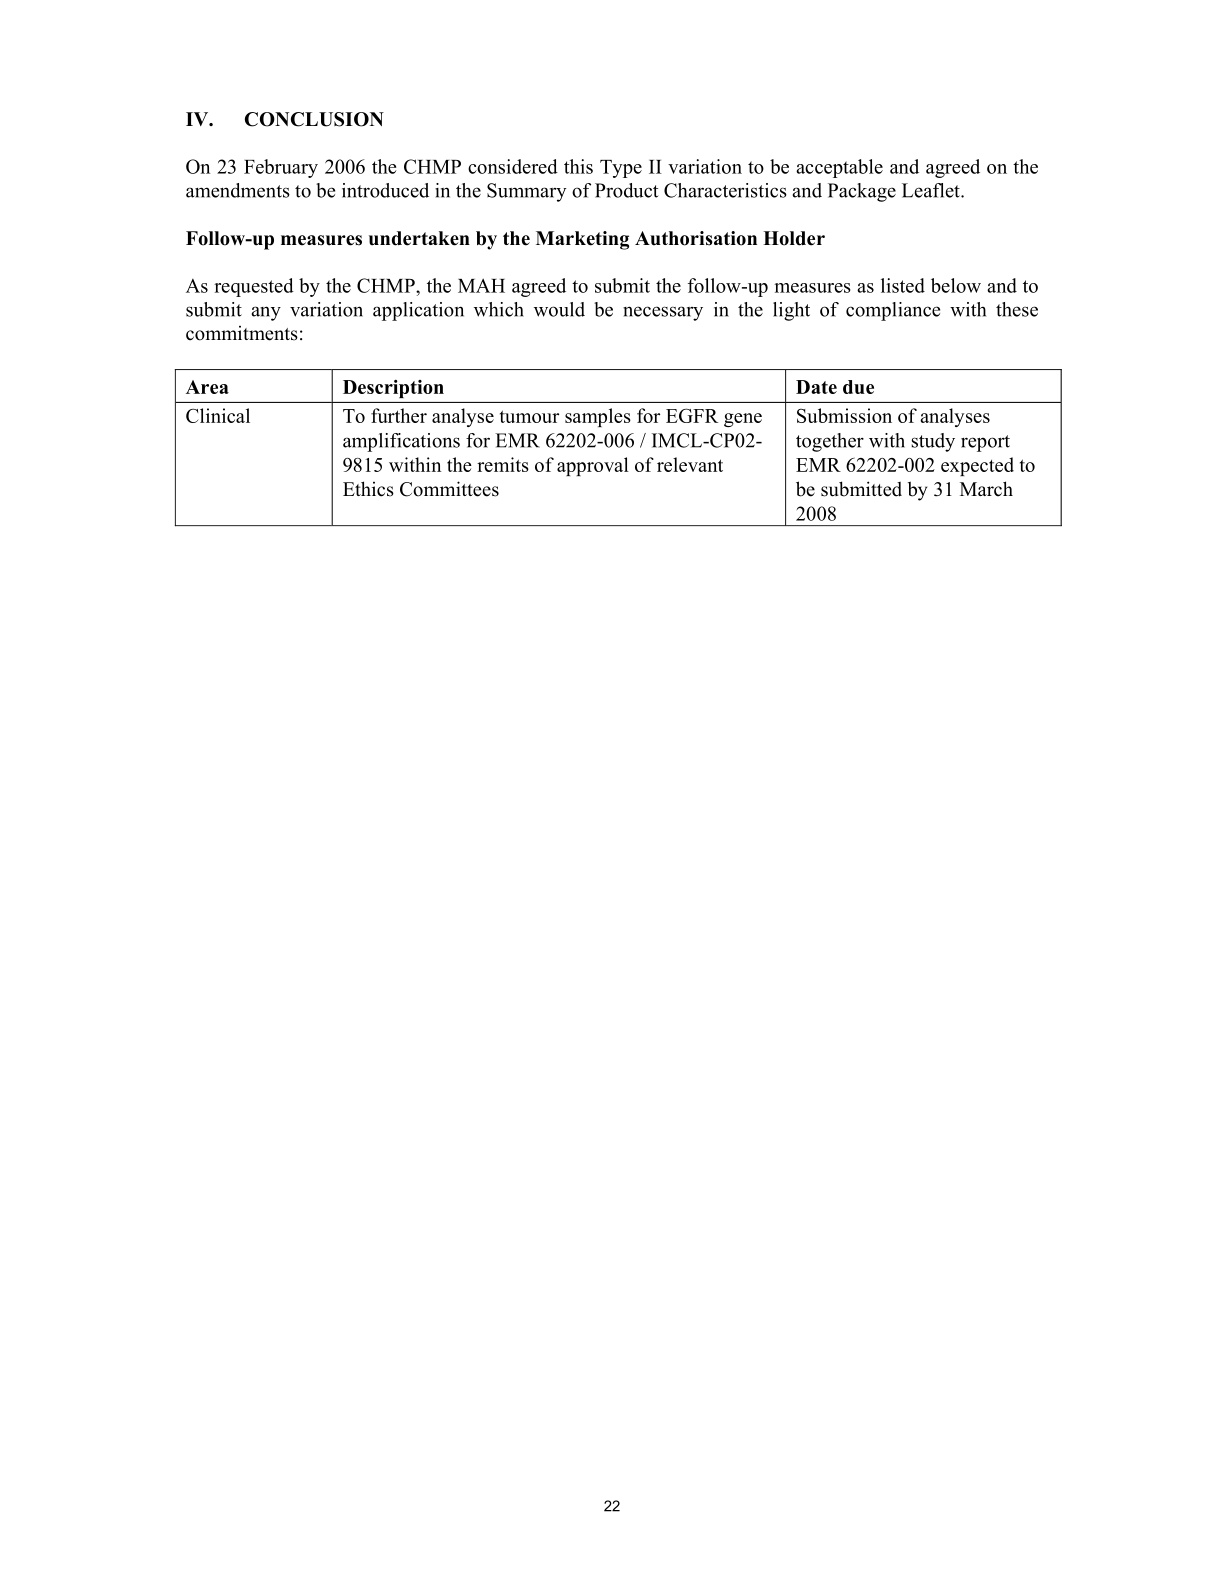full_lined: (174, 368, 1062, 527)
